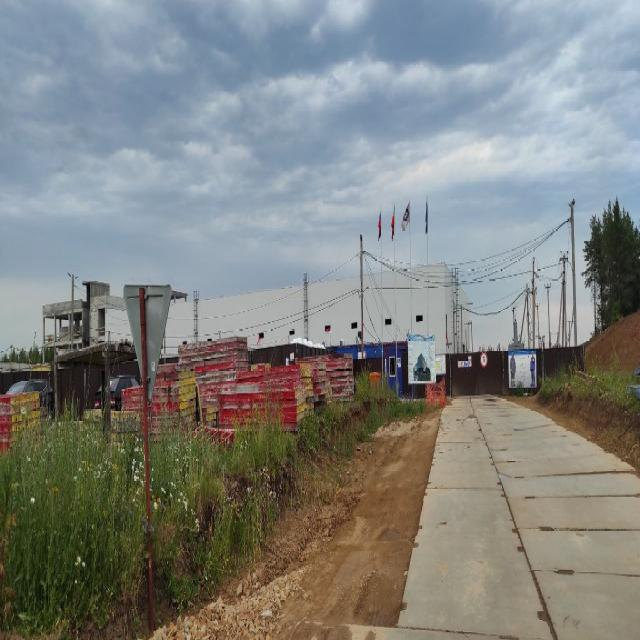Building: (160, 263, 470, 356)
